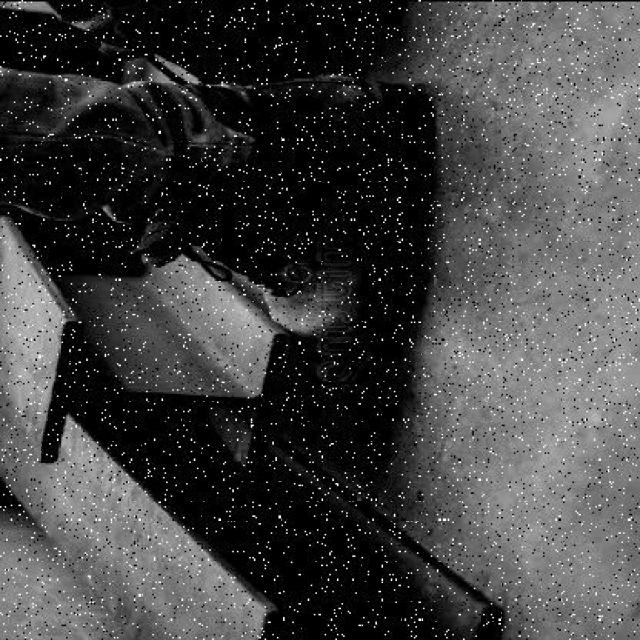shoes: (180, 73, 455, 382)
